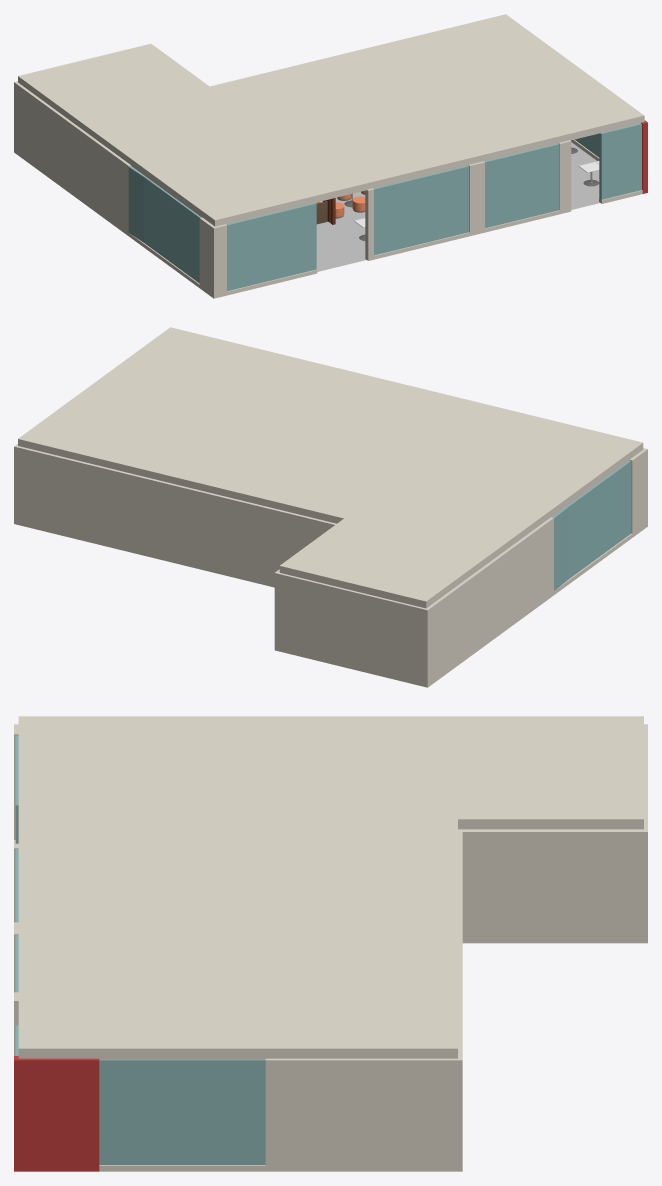
File: Map (1).fbx
3 views of the same model, one above another, from view 1: azimuth 30°, elevation 25°; view 2: azimuth 150°, elevation 25°; view 3: azimuth 270°, elevation 25° (orthographic). The views are drawn at different scales.
Parts seen in each view (by area): view 1: UpFloor, Glass (×4), Wall006, Floor, Wall003, Wall004, Wall005, Sofa2; view 2: UpFloor, Wall007, Wall006, Wall, Glass, Wall008; view 3: UpFloor, Wall002, Wall008, Glass, Wall007, Wall005.
Part boxes in pixels (x1=…): UpFloor: x1=18, y1=14, x2=644, y2=226; Glass (×4): x1=128, y1=123, x2=641, y2=291; Wall006: x1=14, y1=81, x2=219, y2=298; Floor: x1=316, y1=142, x2=599, y2=271; Wall003: x1=365, y1=140, x2=571, y2=260; Wall004: x1=218, y1=224, x2=317, y2=297; Wall005: x1=599, y1=120, x2=647, y2=203; Sofa2: x1=335, y1=190, x2=365, y2=218; UpFloor: x1=18, y1=327, x2=643, y2=608; Wall007: x1=14, y1=444, x2=336, y2=587; Wall006: x1=422, y1=448, x2=647, y2=687; Wall: x1=280, y1=573, x2=422, y2=686; Glass: x1=552, y1=460, x2=631, y2=590; Wall008: x1=274, y1=569, x2=281, y2=651; UpFloor: x1=18, y1=716, x2=643, y2=1059; Wall002: x1=24, y1=1058, x2=452, y2=1171; Wall008: x1=458, y1=828, x2=647, y2=943; Glass: x1=99, y1=1059, x2=265, y2=1164; Wall007: x1=453, y1=832, x2=462, y2=1171; Wall005: x1=14, y1=1056, x2=23, y2=1171.
Bounding box in the file's own units: 3231 × 547 × 2577.
Materials: 11 (6 with a texture image).
